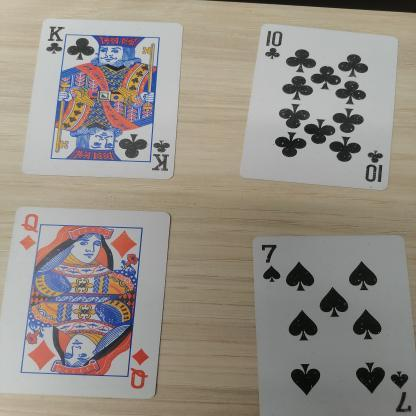10C: (256, 23, 294, 66)
7S: (249, 240, 294, 289)
KC: (43, 18, 74, 62)
QD: (8, 214, 50, 252)
